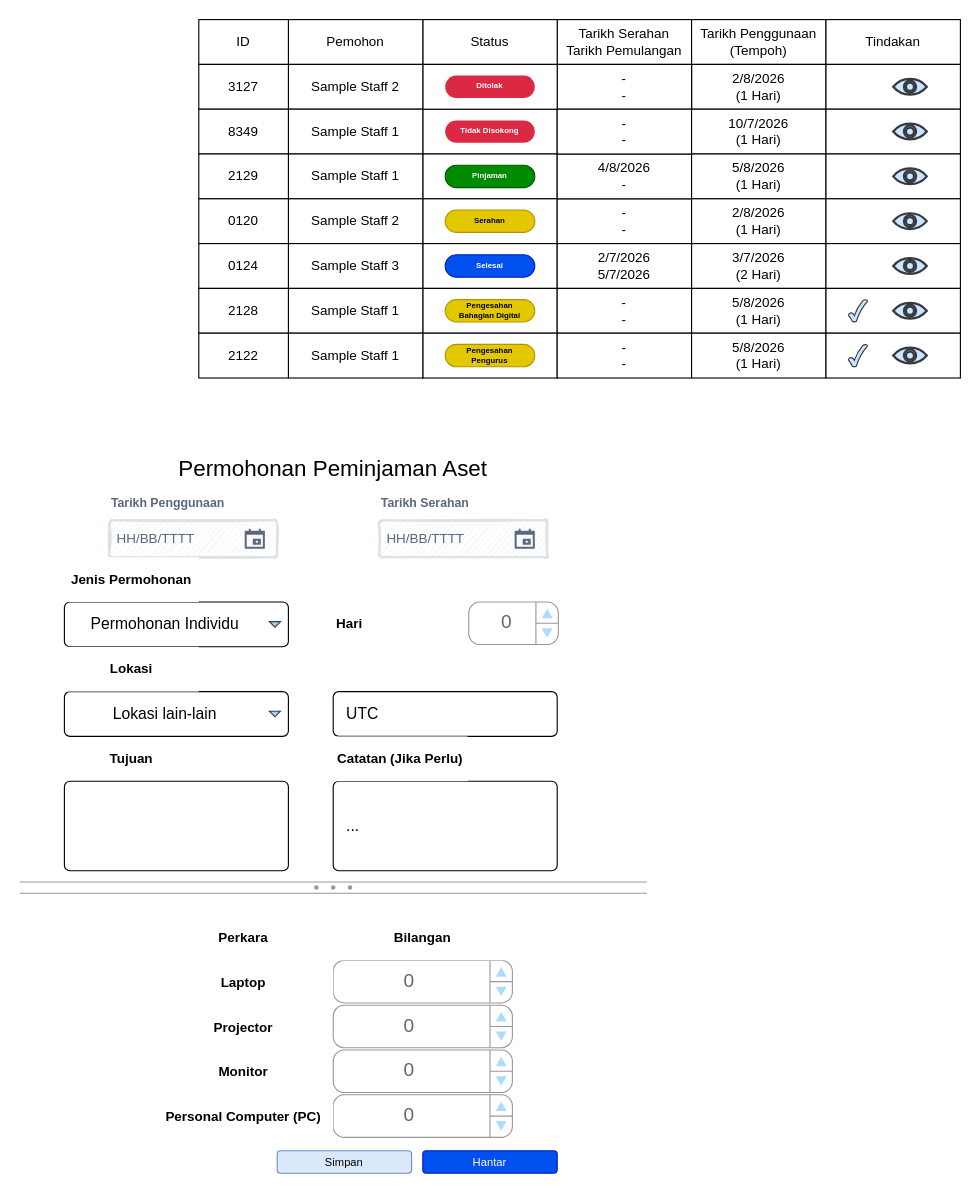
Image size: 980x1193. Some labels were removed from this diagram. The shapes that lost their labels are listed below. From the top down, each one's centre as x and y in pixels, then its label:
point 467,579: Tempoh
point 332,903: Butiran Aset
